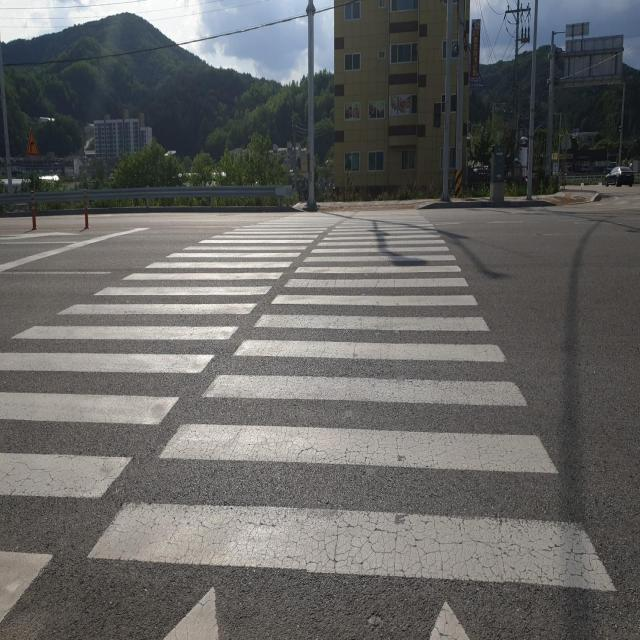횡단보도: (0, 204, 619, 639)
